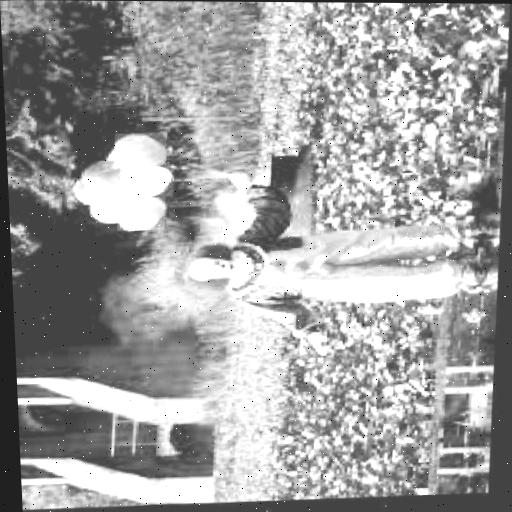balloon: (116, 132, 172, 169), (121, 165, 179, 200), (120, 196, 171, 232), (84, 160, 132, 193), (92, 191, 132, 222), (73, 177, 103, 206), (107, 151, 124, 162)
